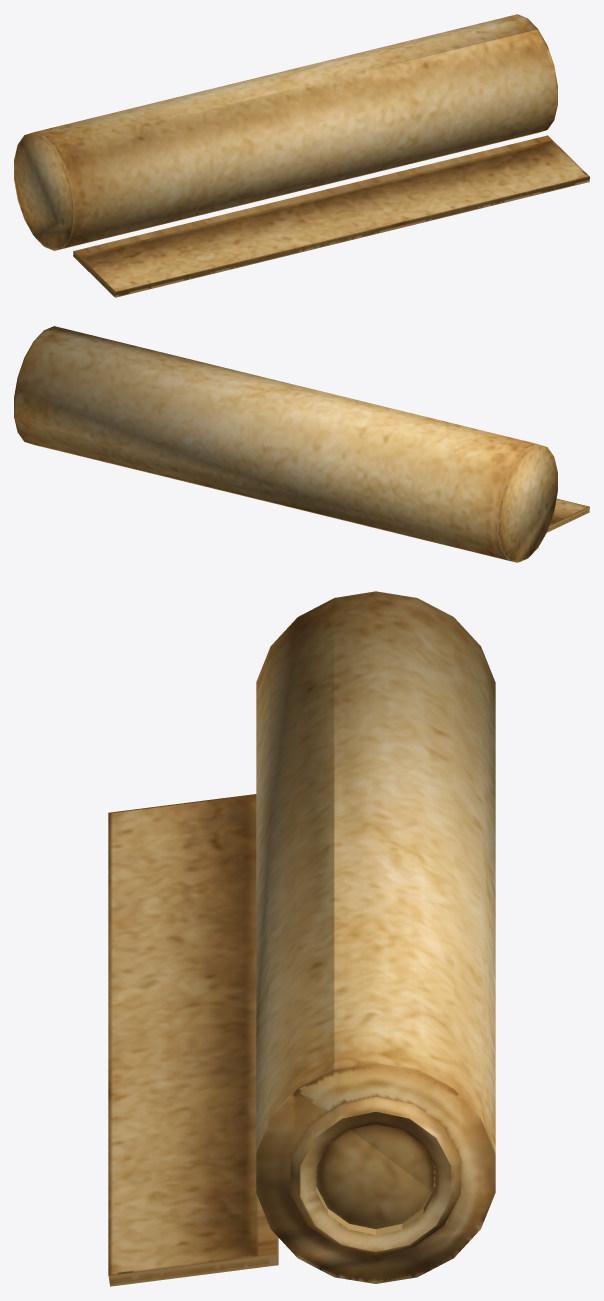
The model's file is item_mm9_10400.glb.
The picture shows the model from 3 angles, top to bottom: view 1: azimuth 30°, elevation 25°; view 2: azimuth 150°, elevation 25°; view 3: azimuth 270°, elevation 25°; orthographic projection. The views are drawn at different scales.
Visible parts, largest first — view 1: d10400; view 2: d10400; view 3: d10400.
Part boxes in pixels (x1=…): d10400: x1=14, y1=14, x2=589, y2=297; d10400: x1=14, y1=326, x2=589, y2=562; d10400: x1=108, y1=591, x2=495, y2=1286.
Size of the model in its own units: 63 by 13.92 by 21.45.
1 material, 1 textured.
